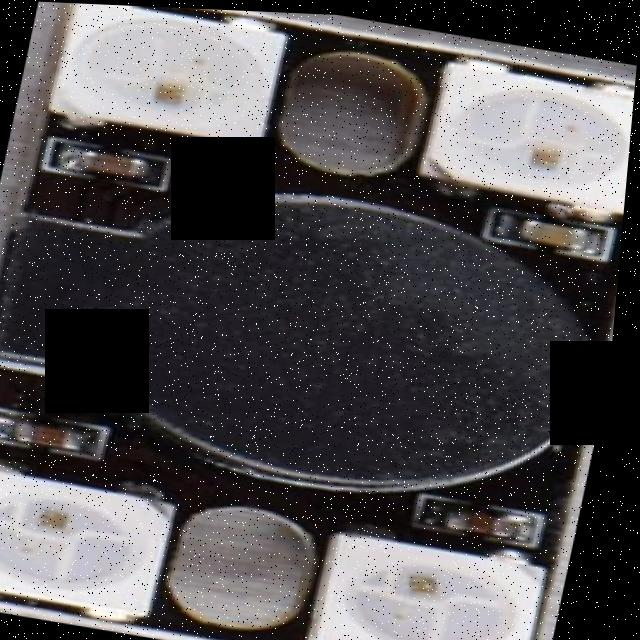LED: (406, 53, 637, 210), (41, 2, 290, 140), (330, 521, 580, 640), (0, 460, 169, 632)
buzzer: (0, 154, 623, 509)
capacitor 1V5: (491, 205, 627, 260), (46, 129, 155, 184), (0, 410, 107, 458), (430, 498, 549, 541)
